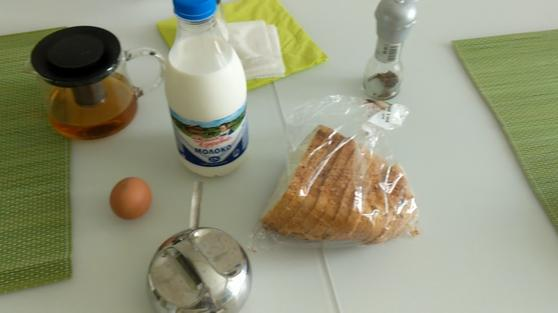egg: (112, 177, 153, 219)
milk: (166, 1, 251, 179)
white_bread: (262, 126, 420, 244)
